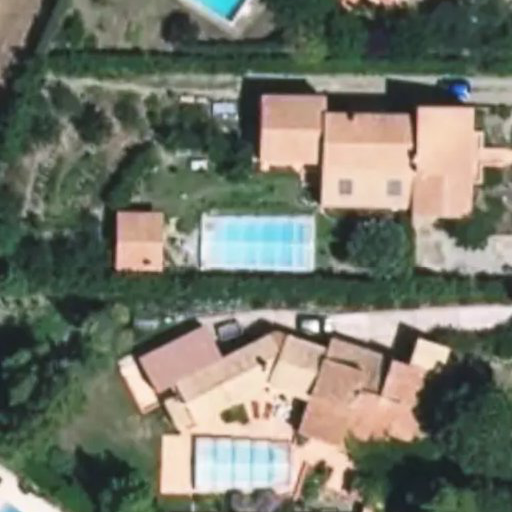pool: (208, 216, 311, 271), (200, 440, 290, 494), (188, 1, 245, 22)
